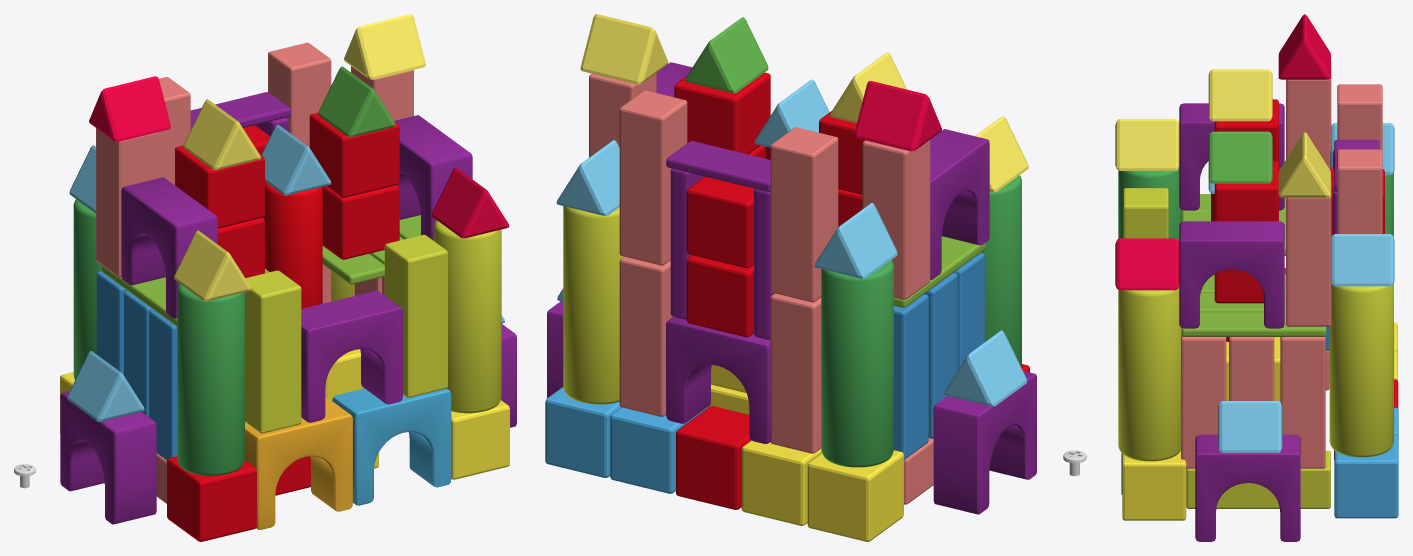
3 views of the same model, side by side, from view 1: azimuth 30°, elevation 25°; view 2: azimuth 150°, elevation 25°; view 3: azimuth 270°, elevation 25° (orthographic). The views are drawn at different scales.
Parts seen in each view (by area): view 1: Cylinder.014, Cylinder.015, Cube.036, Cube.080, Cube.056, Cube.034, Cube.037, Cube.061, Cube.032, Cube.033, Cylinder.008, Cube.059 (+28 smaller); view 2: Cylinder.012, Cylinder.013, Cube.076, Cube.080, Cube.077, Cube.070, Cube.042, Cube.060, Cube.041, Cube.044, Cube.061, Cube.049 (+30 smaller); view 3: Cylinder.013, Cylinder.015, Cube.059, Cube.079, Cube.057, Cube.055, Cube.053, Cube.039, Cube.038, Cube.077, Cylinder.023, Cylinder.017 (+24 smaller).
Boxes of the visible parts, box(x1,y1,x2,y2) form: Cylinder.014: box(177, 283, 244, 475); Cylinder.015: box(434, 220, 501, 413); Cube.036: box(301, 291, 402, 422); Cube.080: box(60, 391, 156, 524); Cube.056: box(245, 270, 301, 433); Cube.034: box(384, 234, 447, 397); Cube.037: box(332, 388, 451, 505); Cube.061: box(121, 177, 217, 318); Cube.032: box(245, 398, 352, 529); Cube.033: box(167, 456, 256, 541); Cylinder.008: box(263, 182, 322, 308); Cube.059: box(394, 115, 472, 240); Cylinder.012: box(821, 260, 893, 467); Cylinder.013: box(563, 206, 623, 404); Cube.076: box(770, 127, 838, 302); Cube.080: box(933, 371, 1036, 514); Cube.077: box(619, 90, 687, 265); Cube.070: box(666, 316, 770, 443); Cube.042: box(770, 293, 821, 453); Cube.060: box(862, 140, 930, 299); Cube.041: box(619, 256, 673, 416); Cube.044: box(807, 450, 903, 541); Cube.061: box(930, 129, 989, 279); Cube.049: box(676, 406, 751, 509); Cylinder.013: box(1329, 283, 1393, 457); Cylinder.015: box(1118, 286, 1181, 461); Cube.059: box(1179, 221, 1284, 328); Cube.079: box(1195, 434, 1300, 541); Cube.057: box(1286, 180, 1331, 326); Cube.055: box(1280, 336, 1325, 468); Cube.053: box(1181, 334, 1226, 468); Cube.039: box(1334, 435, 1398, 518); Cube.038: box(1122, 451, 1186, 520); Cube.077: box(1337, 149, 1382, 233); Cylinder.023: box(1208, 69, 1272, 121); Cylinder.017: box(1115, 238, 1179, 290).
Size of the model in its own units: 49.58 by 38.49 by 26.92.
